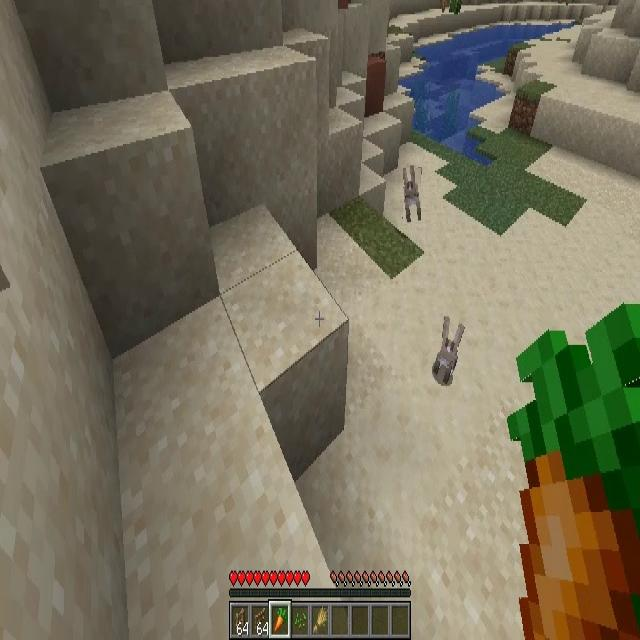rabbit: (434, 315, 464, 383), (403, 168, 421, 224)
